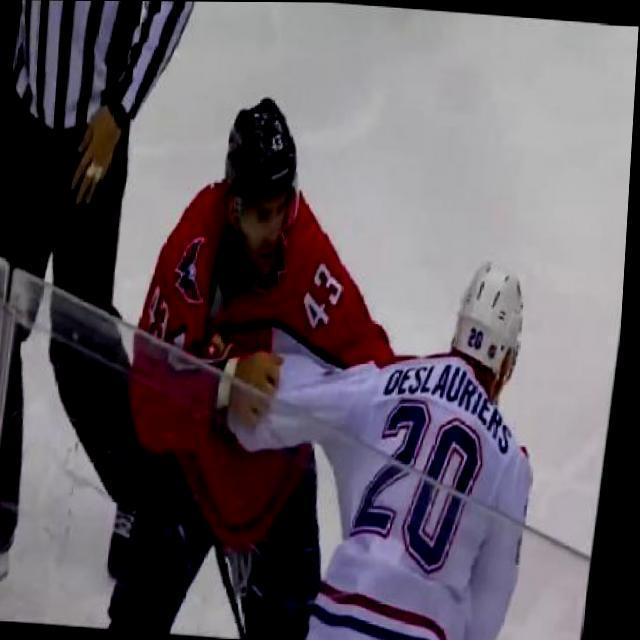fight: (101, 88, 584, 640)
